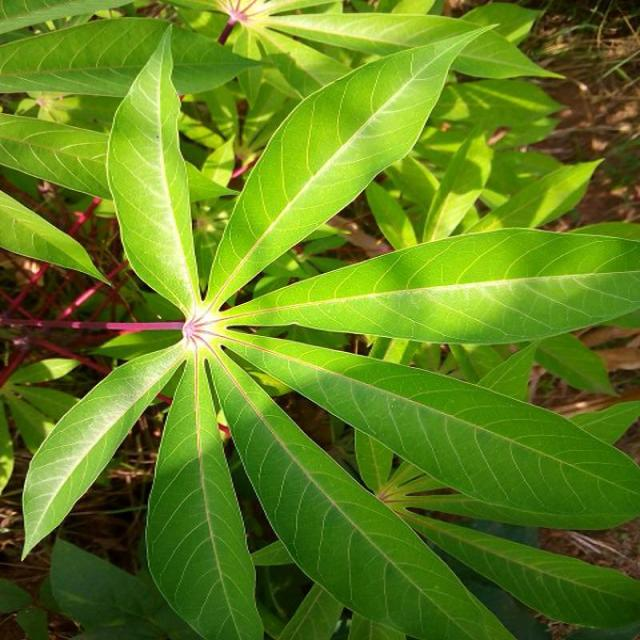cassava leaf: (11, 12, 639, 637), (205, 19, 499, 310), (106, 21, 202, 316)
